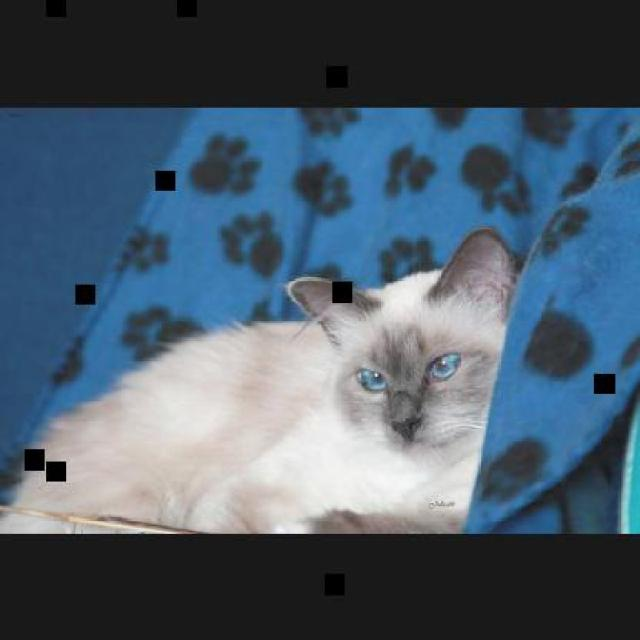unauthorized: (0, 226, 523, 534)
